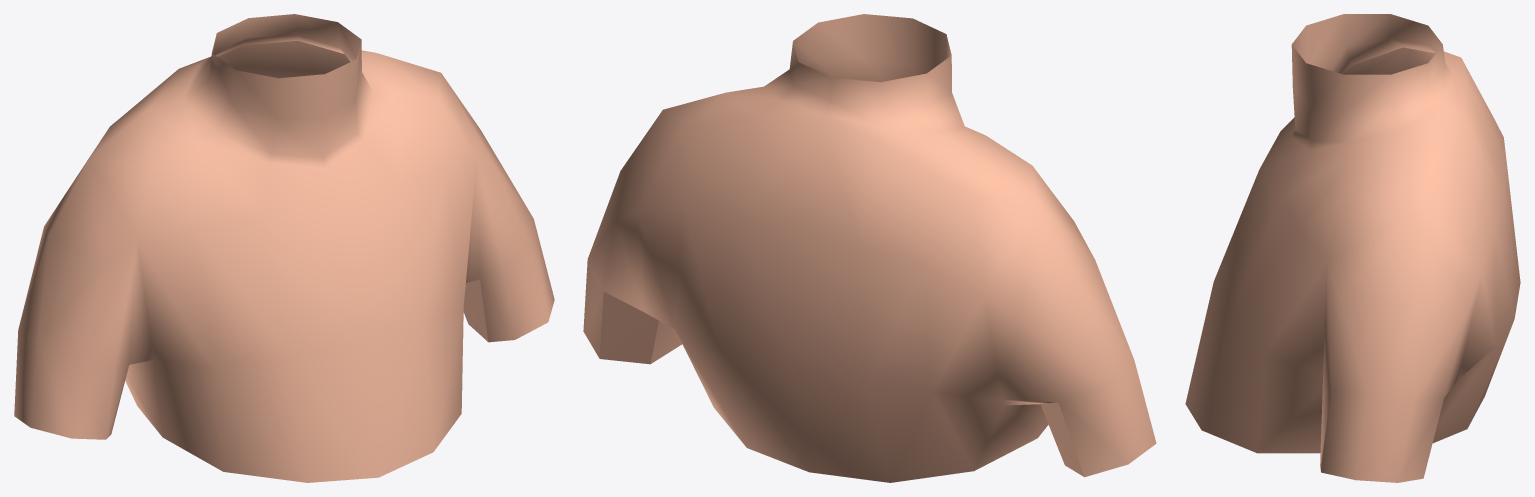
The model's file is AF_M_Monde_body_01.FBX.
The picture shows the model from 3 angles, left to right: view 1: azimuth 30°, elevation 25°; view 2: azimuth 150°, elevation 25°; view 3: azimuth 270°, elevation 25°; orthographic projection. The views are drawn at different scales.
Parts seen in each view (by area): view 1: AF_M_Monde_body_01; view 2: AF_M_Monde_body_01; view 3: AF_M_Monde_body_01.
Boxes of the visible parts, x1,y1,x2,y2 form: AF_M_Monde_body_01: (14,14,554,482); AF_M_Monde_body_01: (583,14,1156,482); AF_M_Monde_body_01: (1185,14,1520,482).
Size of the model in its own units: 450 by 299 by 252.
